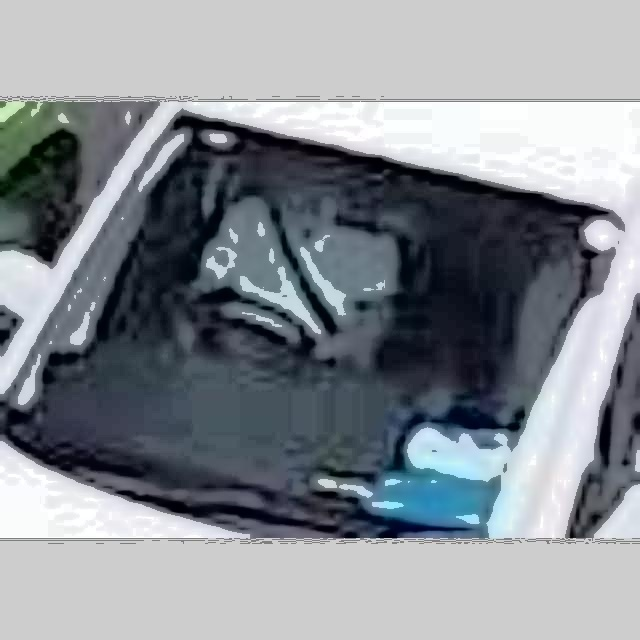pakai: (156, 144, 407, 431)
